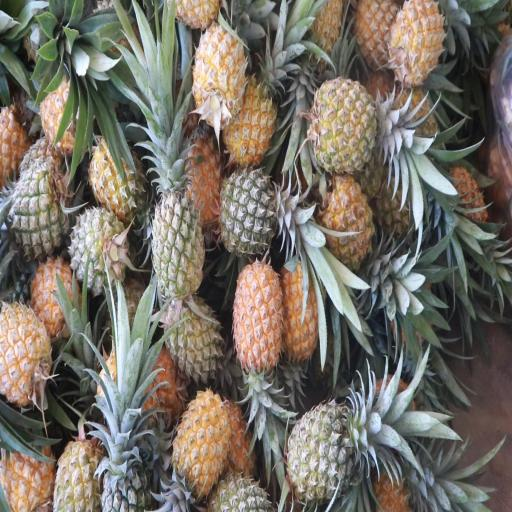------------------------------: (310, 76, 382, 174), (154, 165, 206, 292), (165, 293, 224, 386), (88, 139, 146, 217), (28, 260, 81, 341)
Pineapple - v8 v1: (166, 398, 236, 502), (229, 259, 284, 383), (280, 252, 331, 368), (320, 168, 374, 269), (1, 300, 51, 404), (193, 21, 246, 119), (223, 71, 276, 166), (177, 127, 222, 229), (391, 3, 444, 84), (0, 433, 50, 512), (52, 440, 99, 512)
